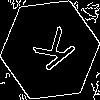K: (25, 25, 77, 80)
